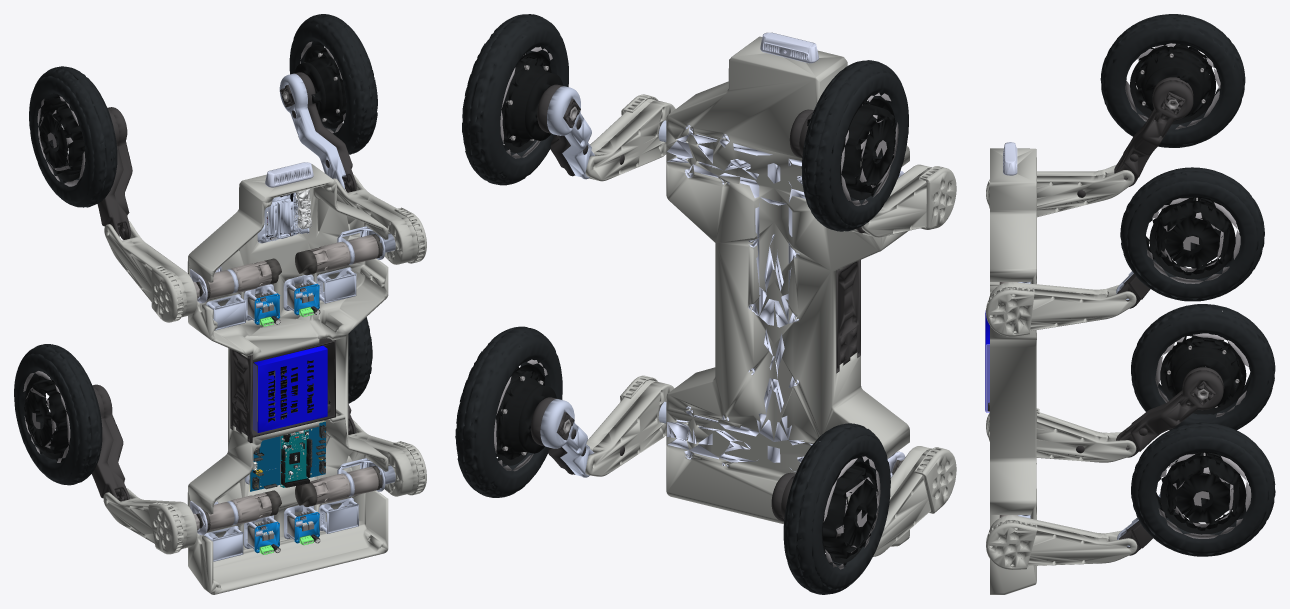
The model's file is safl-quadruped.glb.
3 renders of one model, left to right at view 1: azimuth 30°, elevation 25°; view 2: azimuth 150°, elevation 25°; view 3: azimuth 270°, elevation 25°, orthographic. The views are drawn at different scales.
Parts seen in each view (by area): view 1: ALUMINUM BASE-1; view 2: ALUMINUM BASE-1; view 3: ALUMINUM BASE-1.
Part boxes in pixels (left/top/right/bottom): ALUMINUM BASE-1: left=14, top=14, right=426, bottom=594; ALUMINUM BASE-1: left=455, top=14, right=956, bottom=594; ALUMINUM BASE-1: left=985, top=14, right=1275, bottom=594.
Bounding box in the file's own units: 0.6214 × 0.8895 × 0.4964.
Materials: 2 (2 with a texture image).
